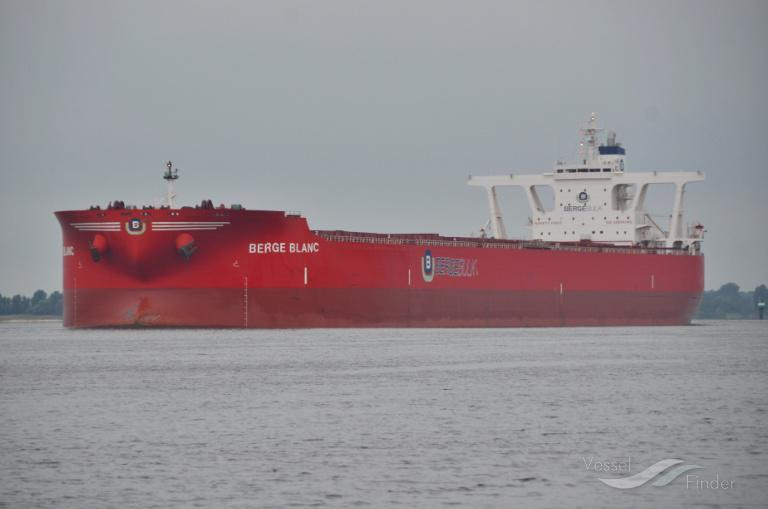OCR: (244, 236, 326, 264), (435, 251, 479, 288)
